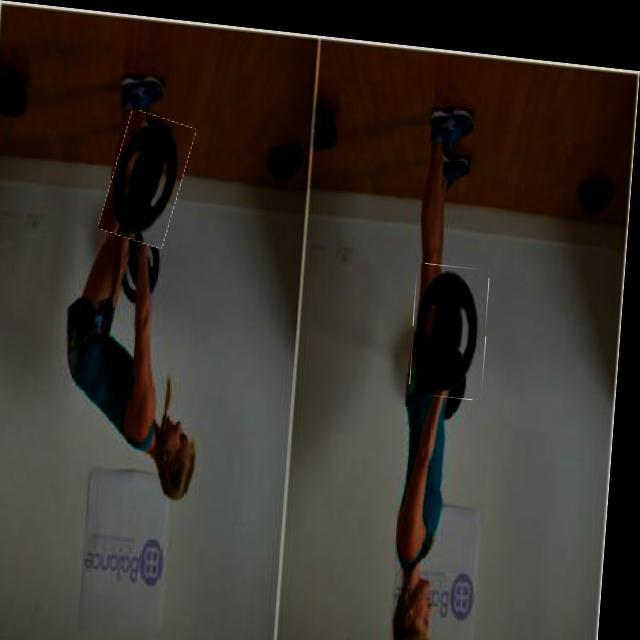barbell: (107, 108, 193, 245), (415, 253, 495, 389)
